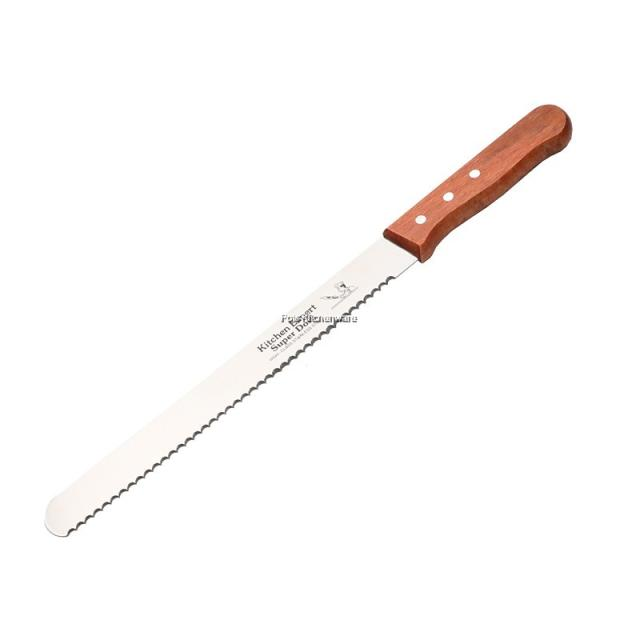Knife: (46, 105, 571, 535)
